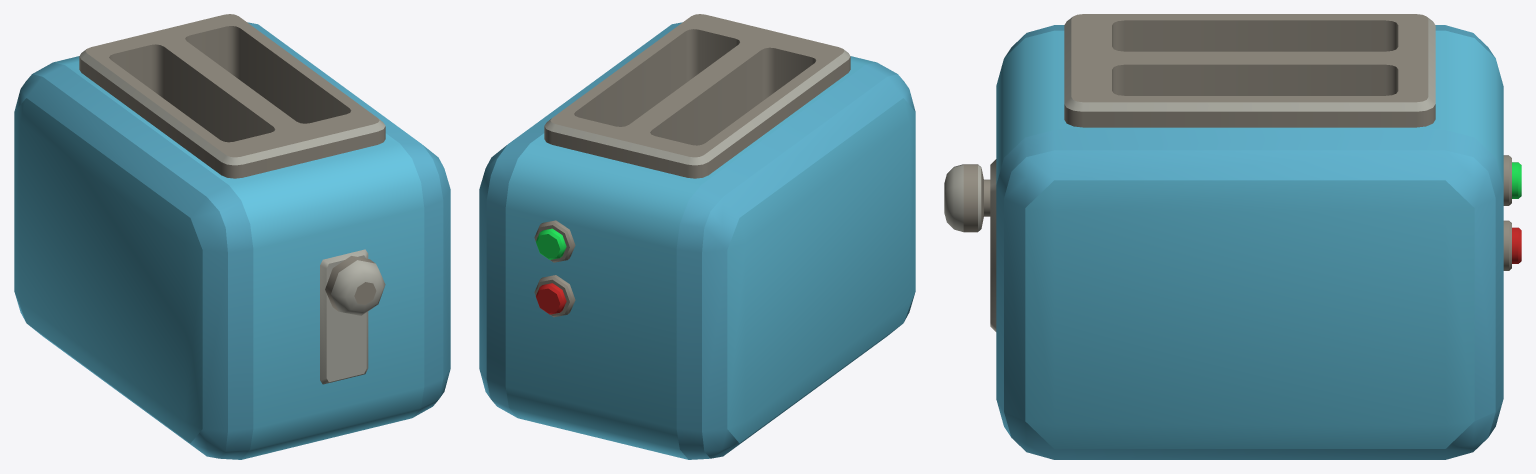
The model's file is Toster_1_F.glb.
The picture shows the model from 3 angles, left to right: view 1: azimuth 30°, elevation 25°; view 2: azimuth 150°, elevation 25°; view 3: azimuth 270°, elevation 25°; orthographic projection. The views are drawn at different scales.
Visible parts, largest first — view 1: Toster_1_F; view 2: Toster_1_F; view 3: Toster_1_F.
Boxes of the visible parts, x1,y1,x2,y2 form: Toster_1_F: [14, 14, 450, 459]; Toster_1_F: [479, 14, 915, 459]; Toster_1_F: [944, 14, 1521, 459].
Bounding box in the file's own units: 0.209 × 0.2233 × 0.3373.
2 materials, 2 textured.
